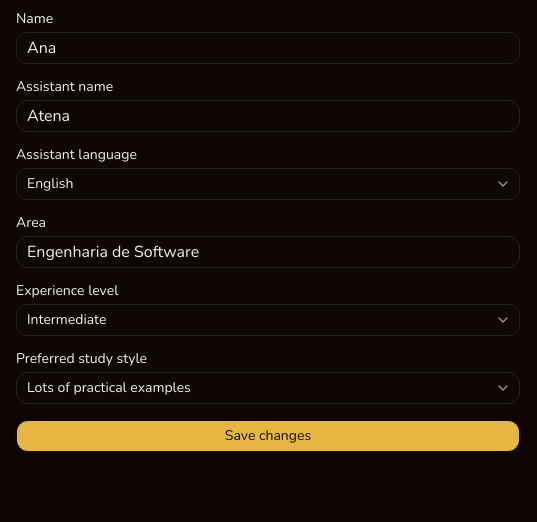
ProfileScreen › shows an inline error and does not report an update on a rejected save
// When saving
Click the button "Save changes": [268, 436] box [16,420,520,452]
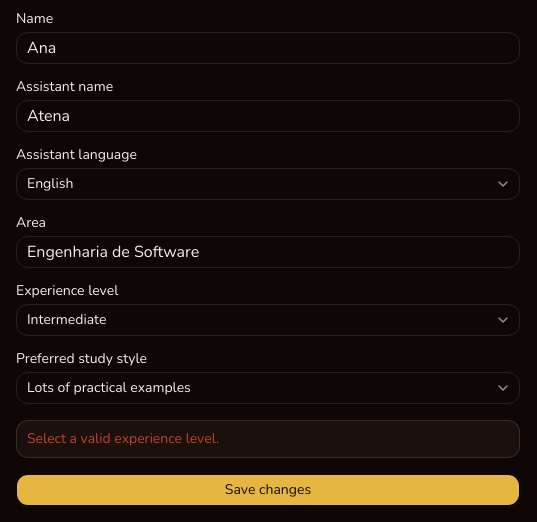
Now the text "Select a valid experience level." is shown, box [27,429,219,448]
